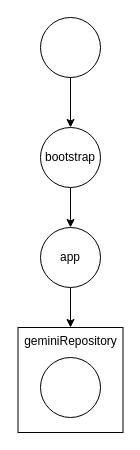
Some shapes in this 140 by 450 pixel diagram are drawn without their labels. The shapes that lost their labels are listed below. From the top down, each one's centre as x and y in pixels, then its label:
At [70,47]: "main".
At [70,387]: "firestore".
